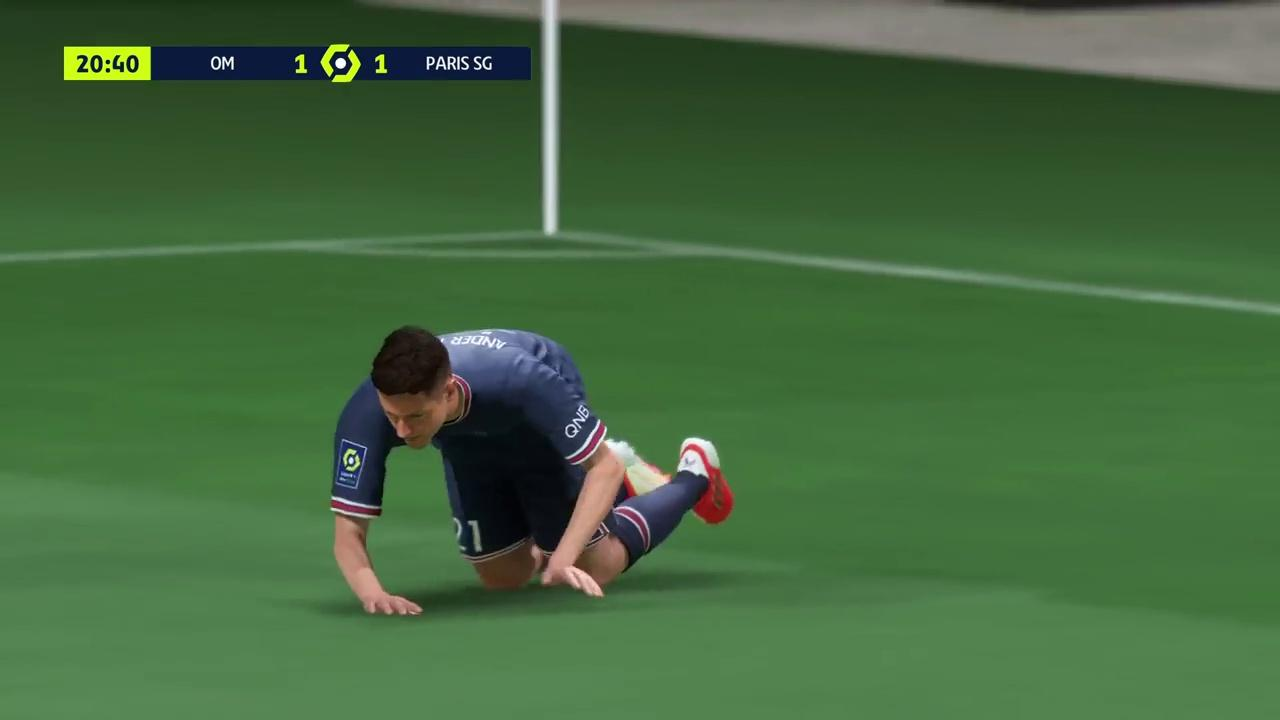scoreboard: (154, 46, 533, 79)
timestamp: (64, 48, 152, 79)
